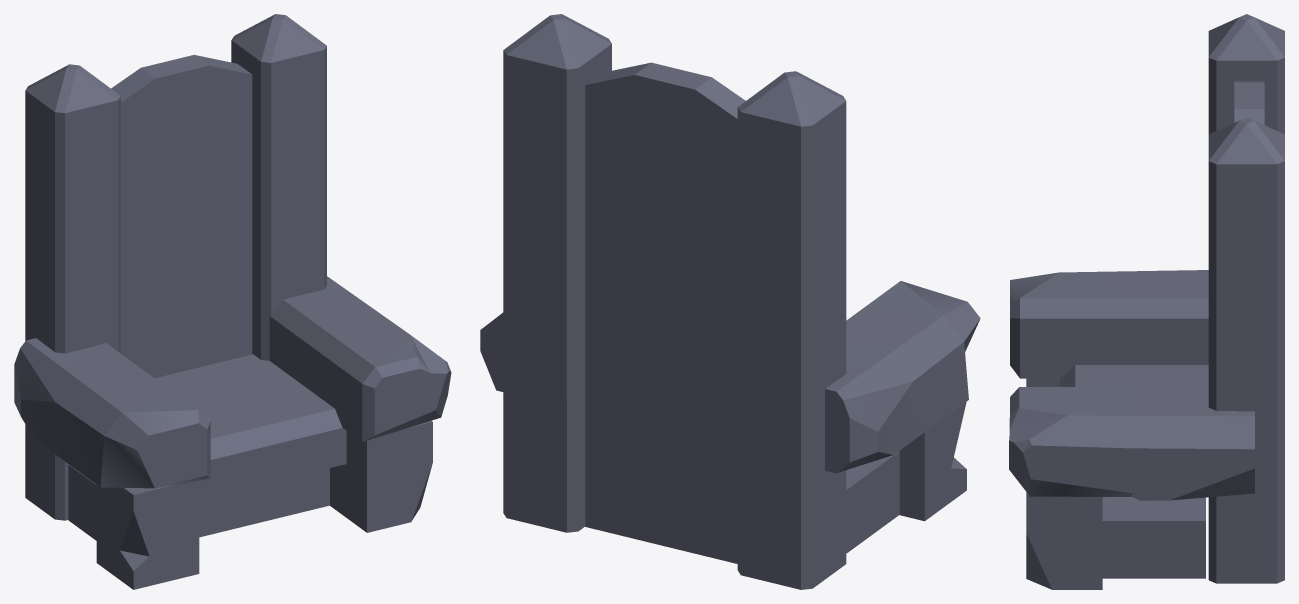
Rendered from Throne.fbx.
The picture shows the model from 3 angles, left to right: view 1: azimuth 30°, elevation 25°; view 2: azimuth 150°, elevation 25°; view 3: azimuth 270°, elevation 25°; orthographic projection. The views are drawn at different scales.
Parts seen in each view (by area): view 1: 1_Throne; view 2: 1_Throne; view 3: 1_Throne.
Boxes of the visible parts, box(x1,y1,x2,y2) form: 1_Throne: box(14, 14, 451, 589); 1_Throne: box(480, 14, 980, 589); 1_Throne: box(1009, 14, 1284, 589).
Bounding box in the file's own units: 1.46 × 1.01 × 1.81.
